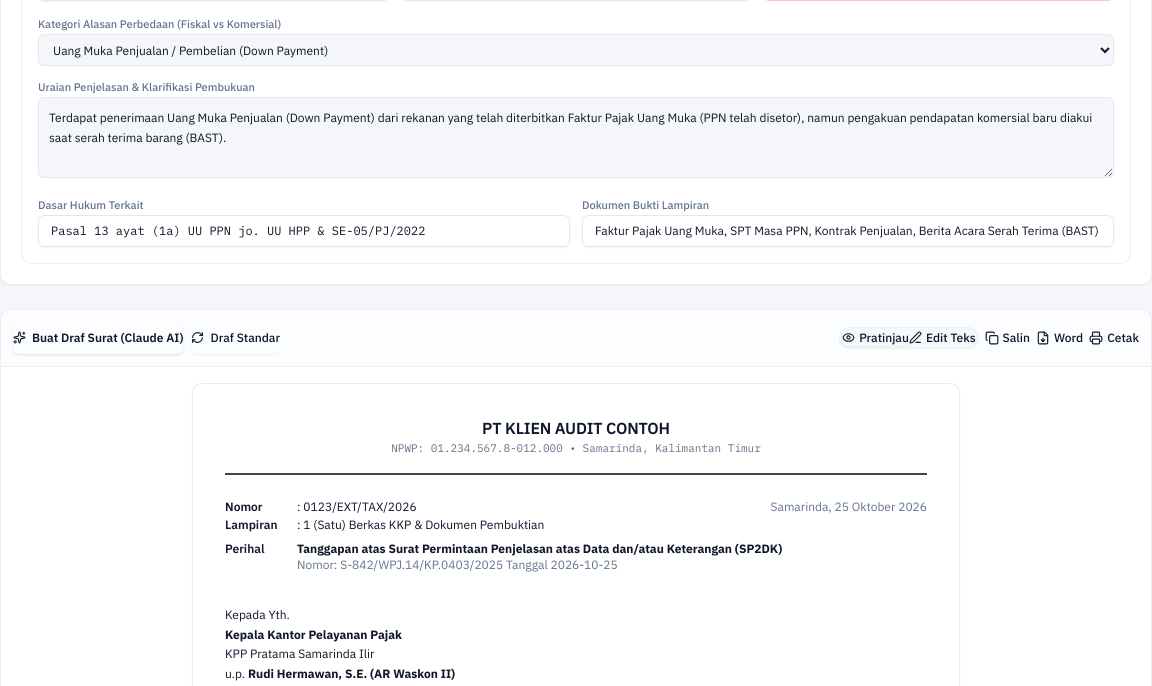
Test: SP2DKResponseTab Component › switches between Formal Preview and Editor mode
(page scrolled)
expect the heading "PT Klien Audit Contoh" is shown: met, box [482,418,670,438]
Click Edit Teks button
Step 1. Click the button "Edit Teks" → point(942, 338), box [909,330,976,346]
(page scrolled)
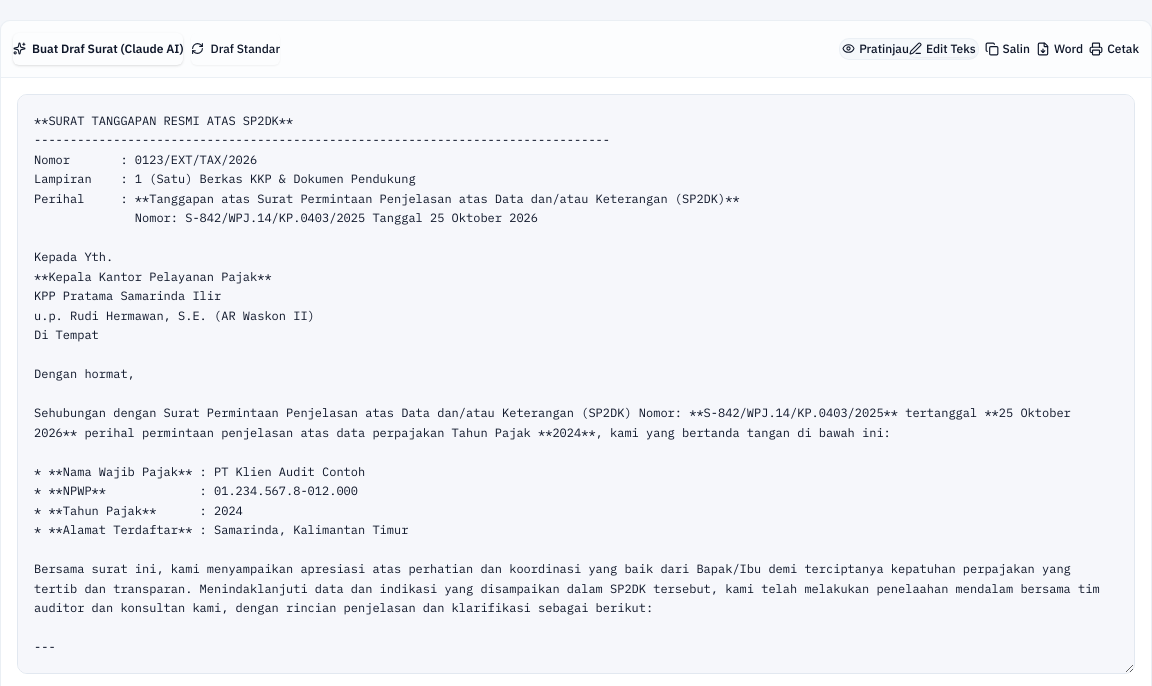
expect the text box with placeholder "Naskah surat tanggapan SP2DK..." is shown: met
